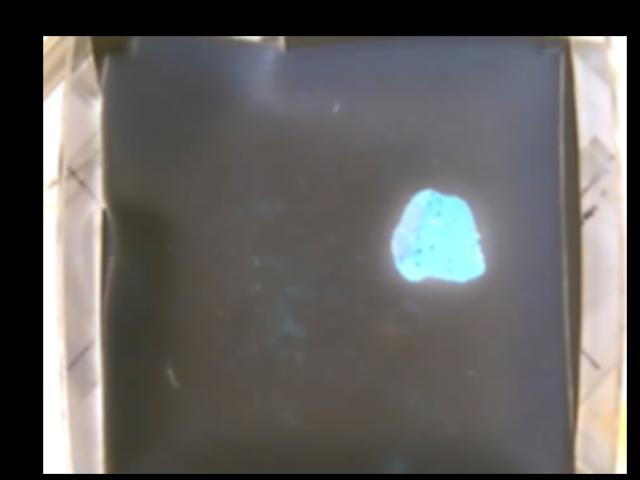Brisk: (394, 188, 484, 284)
